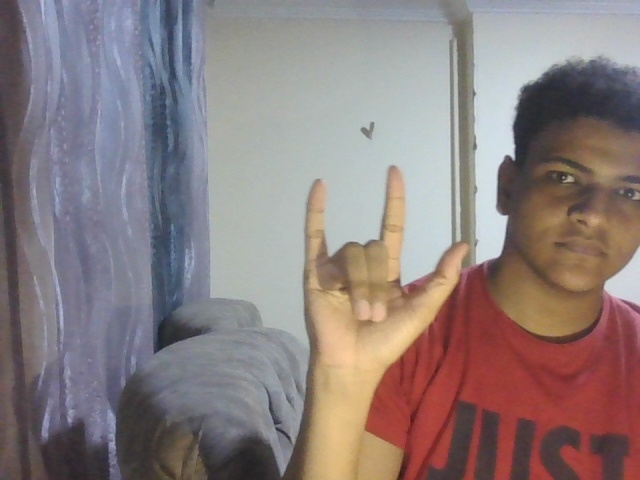iloveyou: (292, 161, 473, 378)
